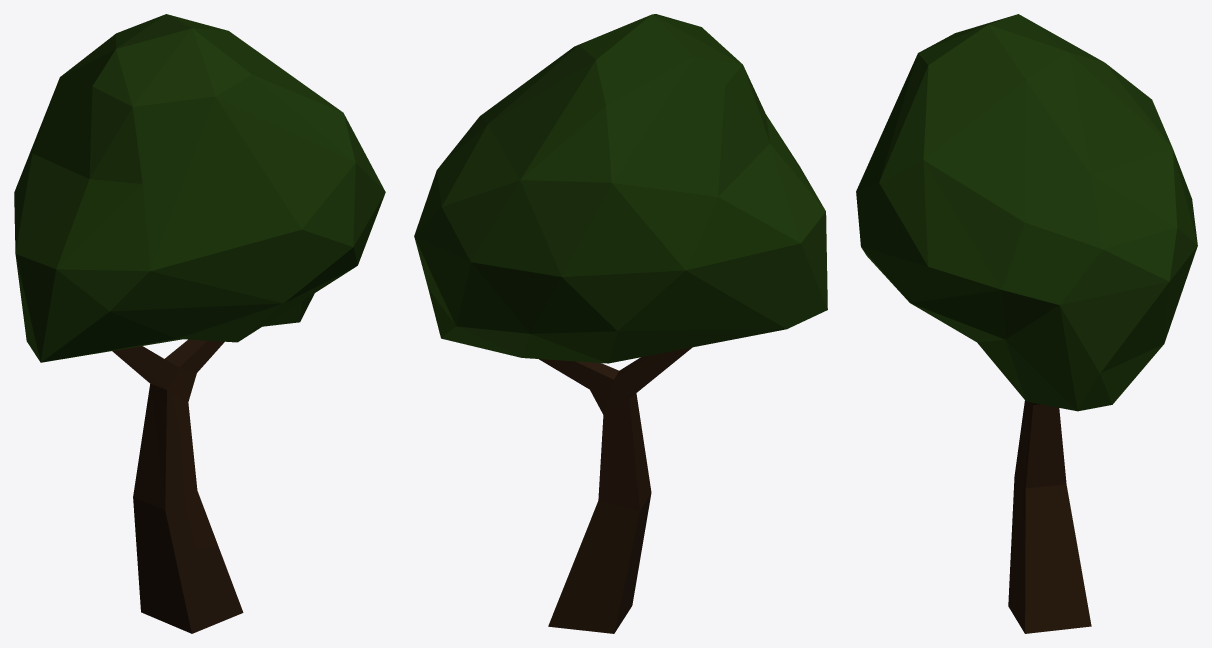
The model's file is ball_tree1.obj.
3 views of the same model, side by side, from view 1: azimuth 30°, elevation 25°; view 2: azimuth 150°, elevation 25°; view 3: azimuth 270°, elevation 25° (orthographic). The views are drawn at different scales.
Visible parts, largest first — view 1: Tree1_5_Cube.022; view 2: Tree1_5_Cube.022; view 3: Tree1_5_Cube.022.
Boxes of the visible parts, <box> form: Tree1_5_Cube.022: <box>14,14,385,633</box>; Tree1_5_Cube.022: <box>414,14,827,633</box>; Tree1_5_Cube.022: <box>856,14,1197,633</box>.
Bounding box in the file's own units: 2.67 × 4.45 × 2.39.
